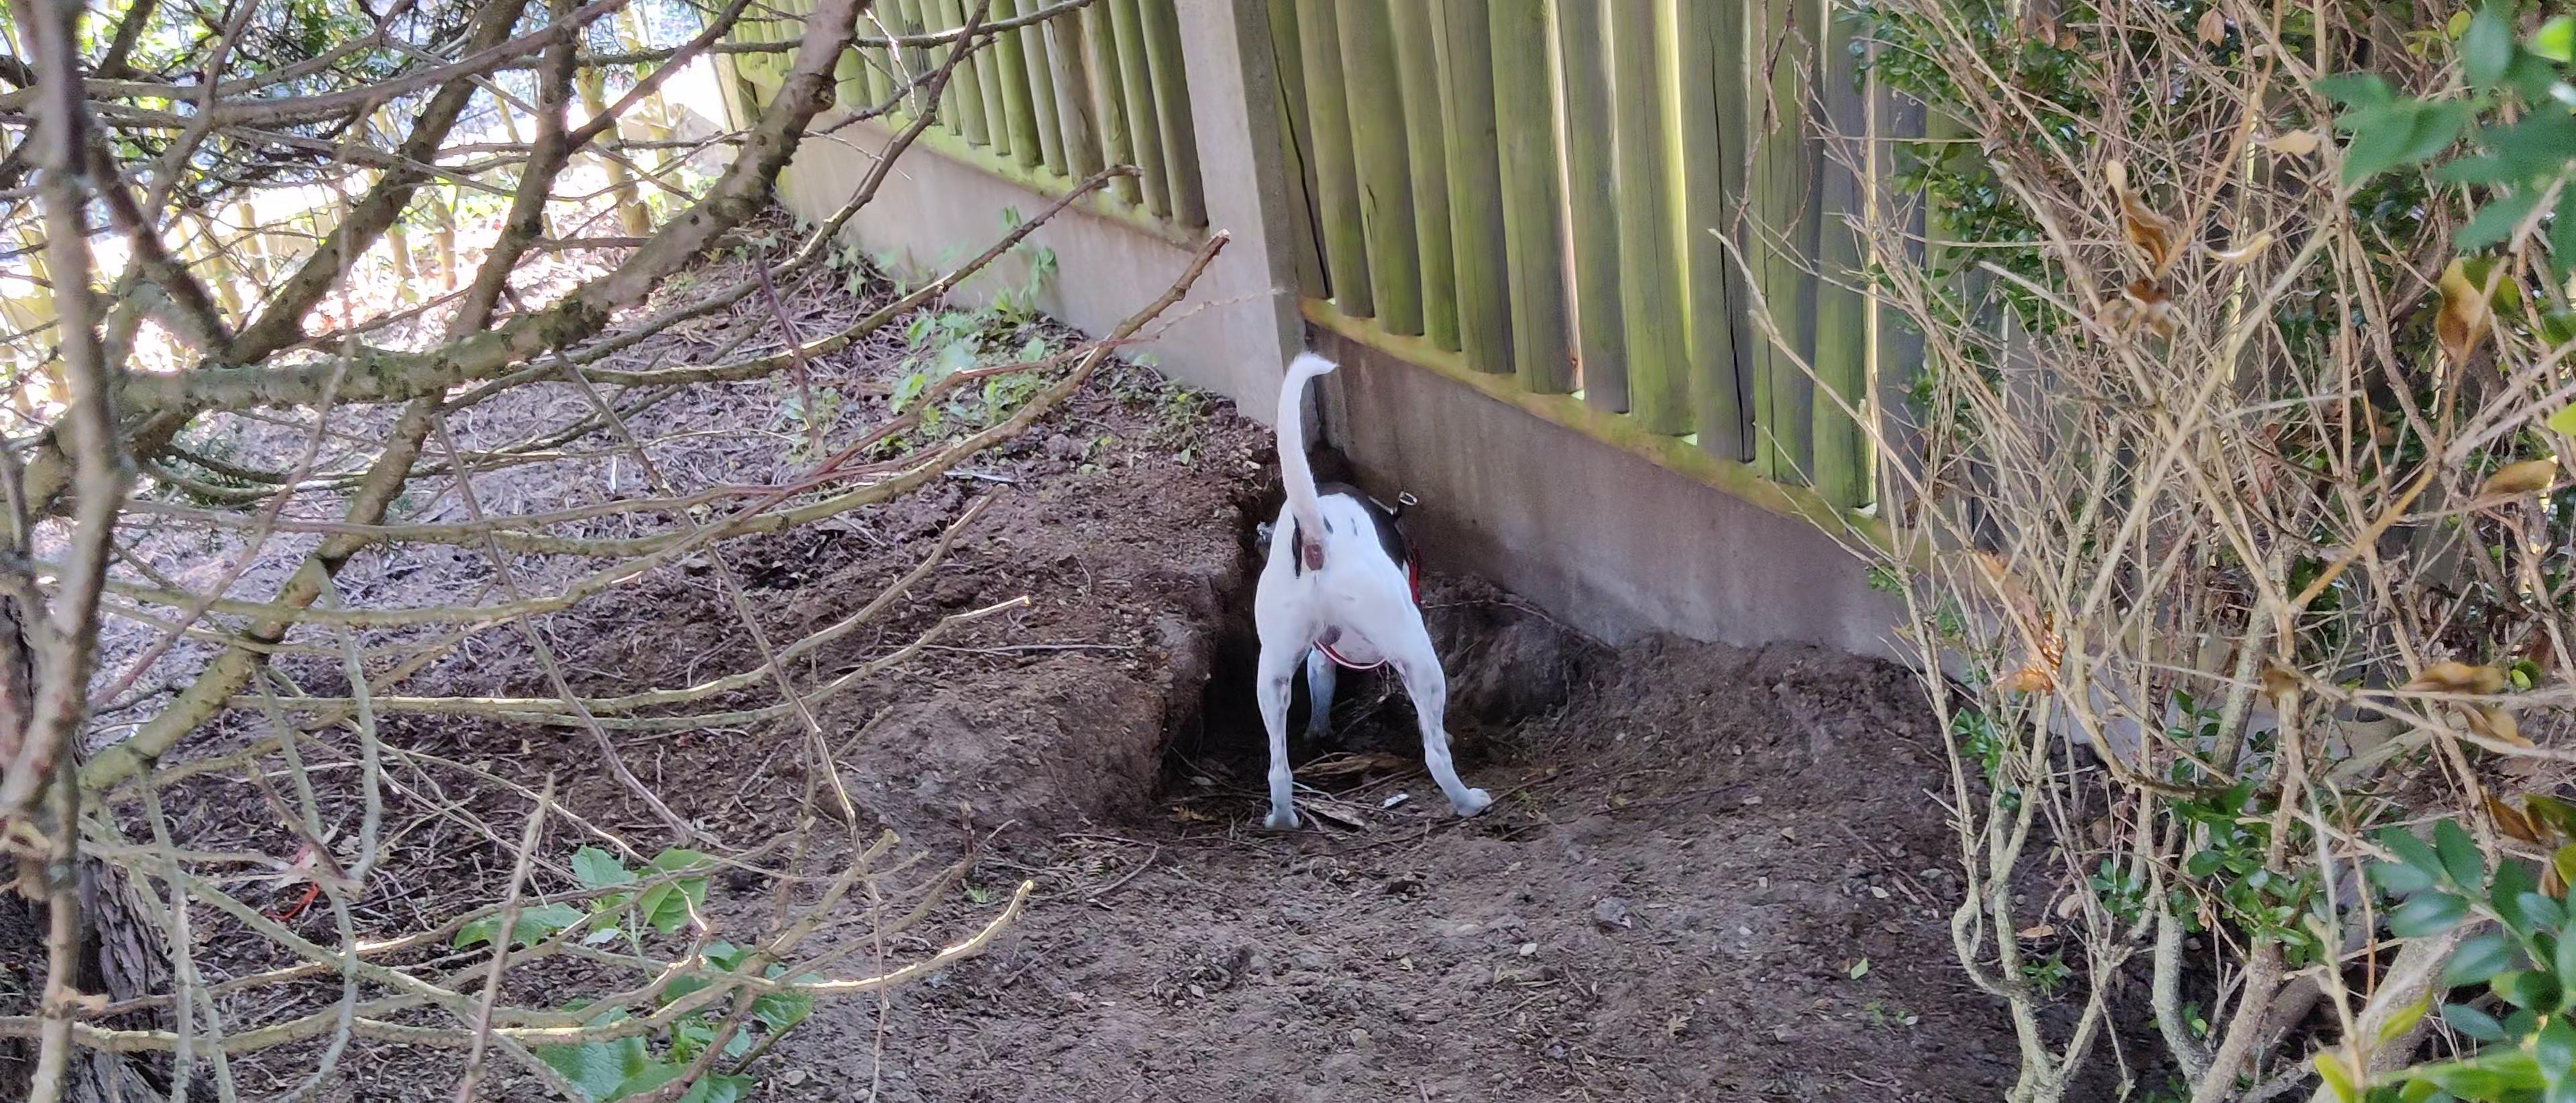Dog: (1201, 332, 1518, 840)
